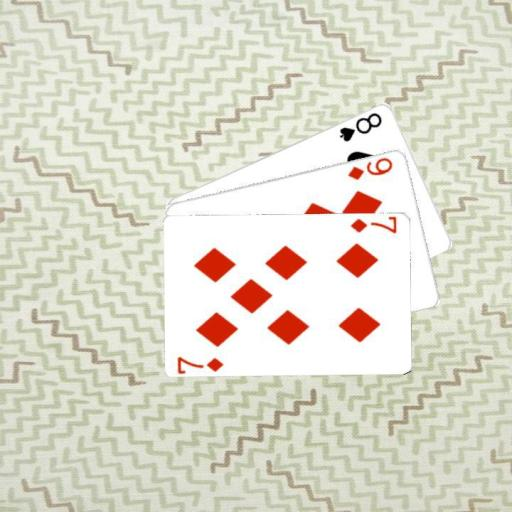7D: (348, 216, 399, 235), (175, 353, 225, 372)
8S: (336, 109, 384, 143)
9D: (345, 155, 395, 182)
